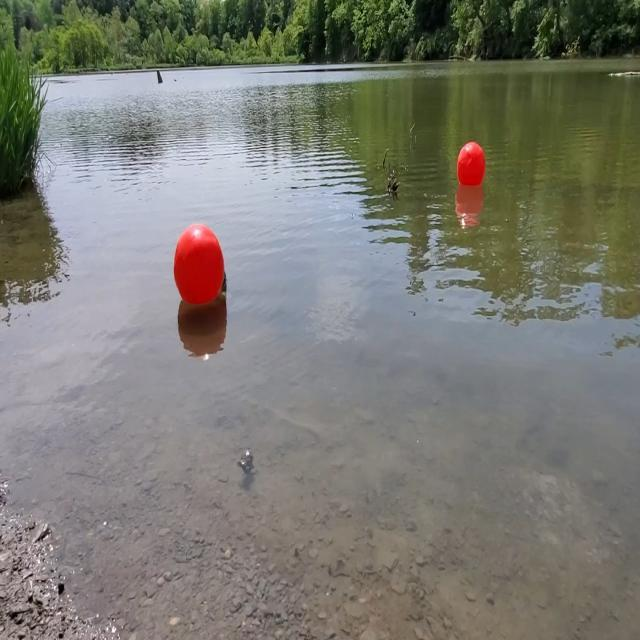buoy: (173, 221, 228, 309), (456, 142, 486, 190)
